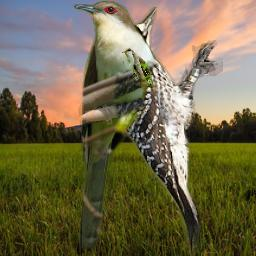Cuckoo: (73, 0, 157, 249), (121, 48, 158, 92)
Woodpecker: (108, 7, 223, 255)
